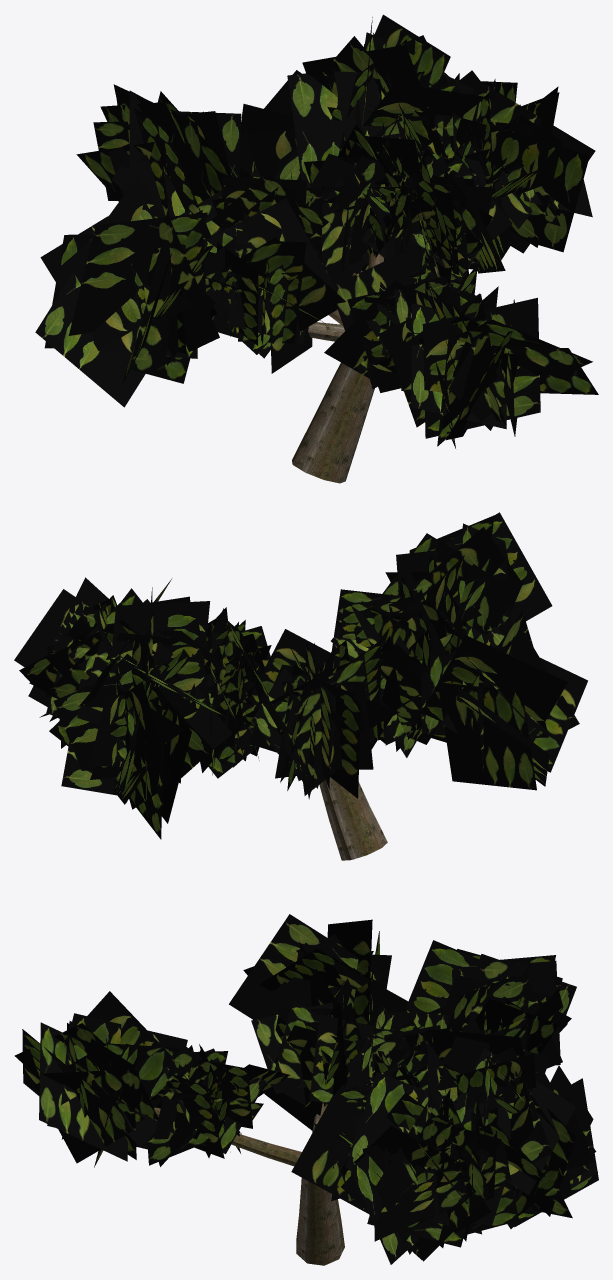
File: fig_3.glb
The picture shows the model from 3 angles, top to bottom: view 1: azimuth 30°, elevation 25°; view 2: azimuth 150°, elevation 25°; view 3: azimuth 270°, elevation 25°; orthographic projection. The views are drawn at different scales.
Visible parts, largest first — view 1: fig; view 2: fig; view 3: fig.
Part boxes in pixels (box(x1,y1,x2,y2)): fig: box(35, 14, 598, 483); fig: box(14, 512, 587, 860); fig: box(14, 914, 598, 1265).
Size of the model in its own units: 11.83 by 6.37 by 11.62.
2 materials, 2 textured.
